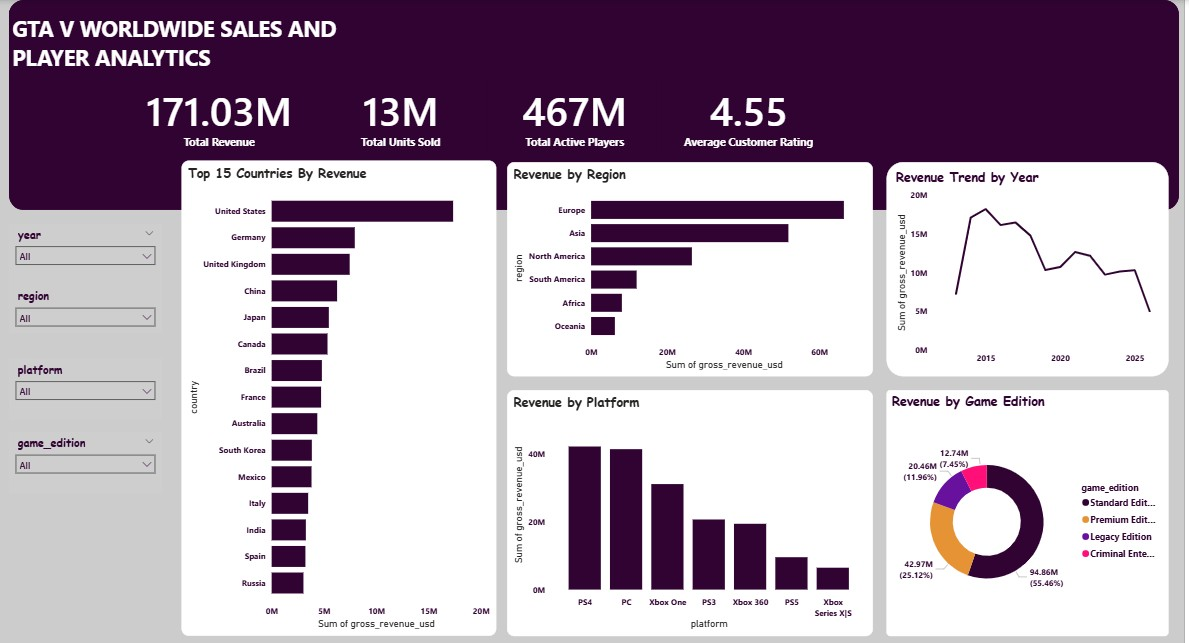

Layout of this report page (visuals, bound fields, positions):
{"tool":"powerbi","page":{"name":"Executive Overview","canvas":[1760,960],"ordinal":0},"visuals":[{"type":"shape","box":[13.4,0,1739.2,312.2],"z":0},{"type":"textbox","box":[13.3,16.6,511.9,101],"z":1},{"type":"card","fields":{"Values":["GTA_Worldwide_Cleaned_Data.Total Revenue"]},"box":[195.5,117.6,258.4,107.7],"z":2},{"type":"card","fields":{"Values":["GTA_Worldwide_Cleaned_Data.Total Units Sold"]},"box":[467.1,117.6,258.4,107.7],"z":3},{"type":"card","fields":{"Values":["GTA_Worldwide_Cleaned_Data.Total Active Players"]},"box":[725.5,117.6,258.4,107.7],"z":4},{"type":"card","fields":{"Values":["GTA_Worldwide_Cleaned_Data.Average Customer Rating"]},"box":[983.9,117.6,258.4,107.7],"z":5},{"type":"lineChart","title":"Revenue Trend by Year","fields":{"Category":["GTA_Worldwide_Cleaned_Data.year"],"Y":["Sum(GTA_Worldwide_Cleaned_Data.gross_revenue_usd)"]},"box":[1317.8,240.8,419.2,318.9],"z":6},{"type":"clusteredBarChart","title":"Revenue by Region","fields":{"Category":["GTA_Worldwide_Cleaned_Data.region"],"Y":["Sum(GTA_Worldwide_Cleaned_Data.gross_revenue_usd)"]},"box":[753.7,240.8,544.1,318.9],"z":7},{"type":"clusteredColumnChart","title":"Revenue by Platform","fields":{"Y":["Sum(GTA_Worldwide_Cleaned_Data.gross_revenue_usd)"],"Category":["GTA_Worldwide_Cleaned_Data.platform"]},"box":[753.7,579.7,544.1,365.7],"z":8},{"type":"clusteredBarChart","title":"Top 15 Countries By Revenue","fields":{"Y":["Sum(GTA_Worldwide_Cleaned_Data.gross_revenue_usd)"],"Category":["GTA_Worldwide_Cleaned_Data.country"]},"box":[269.8,238.6,468.2,706.8],"z":9},{"type":"donutChart","title":"Revenue by Game Edition","fields":{"Category":["GTA_Worldwide_Cleaned_Data.game_edition"],"Y":["Sum(GTA_Worldwide_Cleaned_Data.gross_revenue_usd)"]},"box":[1317.8,579.7,419.2,365.7],"z":10},{"type":"slicer","fields":{"Values":["GTA_Worldwide_Cleaned_Data.year"]},"box":[13.4,332.2,227.4,91.4],"z":11},{"type":"slicer","fields":{"Values":["GTA_Worldwide_Cleaned_Data.region"]},"box":[13.4,423.7,227.4,71.4],"z":12},{"type":"slicer","fields":{"Values":["GTA_Worldwide_Cleaned_Data.platform"]},"box":[13.4,532.9,227.4,91.4],"z":13},{"type":"slicer","fields":{"Values":["GTA_Worldwide_Cleaned_Data.game_edition"]},"box":[13.4,642.2,227.4,91.4],"z":15},{"type":"pageNavigator","box":[854,17.8,816.1,66.9],"z":16}]}

Visuals, with their boxes on the page's 1760x960 design canvas (x1, y1, x2, y2). These are canvas units, not pixel positions in the 1189x643 screenshot, which may show the page scaled, cropped or inside an application window:
shape: [13, 0, 1753, 312]
textbox: [13, 17, 525, 118]
card - GTA_Worldwide_Cleaned_Data.Total Revenue: [196, 118, 454, 225]
card - GTA_Worldwide_Cleaned_Data.Total Units Sold: [467, 118, 726, 225]
card - GTA_Worldwide_Cleaned_Data.Total Active Players: [726, 118, 984, 225]
card - GTA_Worldwide_Cleaned_Data.Average Customer Rating: [984, 118, 1242, 225]
"Revenue Trend by Year" lineChart: [1318, 241, 1737, 560]
"Revenue by Region" clusteredBarChart: [754, 241, 1298, 560]
"Revenue by Platform" clusteredColumnChart: [754, 580, 1298, 945]
"Top 15 Countries By Revenue" clusteredBarChart: [270, 239, 738, 945]
"Revenue by Game Edition" donutChart: [1318, 580, 1737, 945]
slicer - GTA_Worldwide_Cleaned_Data.year: [13, 332, 241, 424]
slicer - GTA_Worldwide_Cleaned_Data.region: [13, 424, 241, 495]
slicer - GTA_Worldwide_Cleaned_Data.platform: [13, 533, 241, 624]
slicer - GTA_Worldwide_Cleaned_Data.game_edition: [13, 642, 241, 734]
pageNavigator: [854, 18, 1670, 85]
